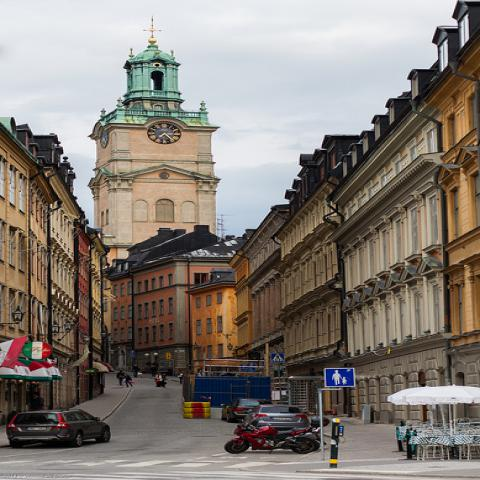car: (6, 408, 111, 449), (245, 404, 310, 428), (219, 398, 273, 424)
motorcycle: (223, 420, 322, 454)
